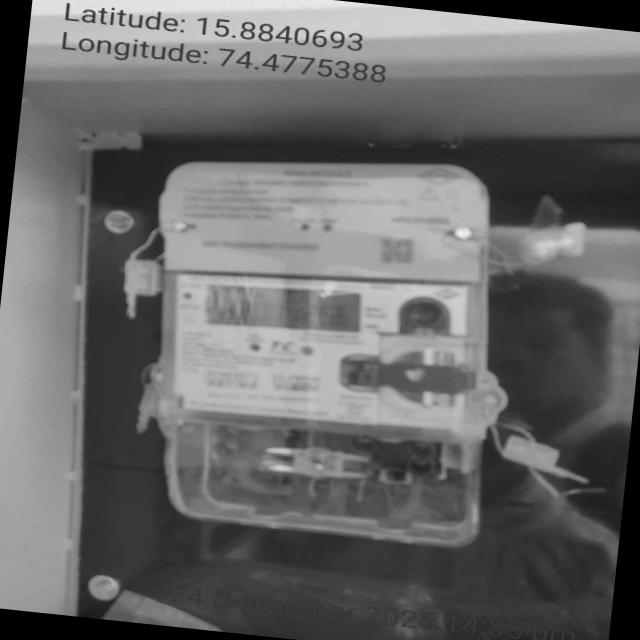meter: (141, 142, 502, 438)
